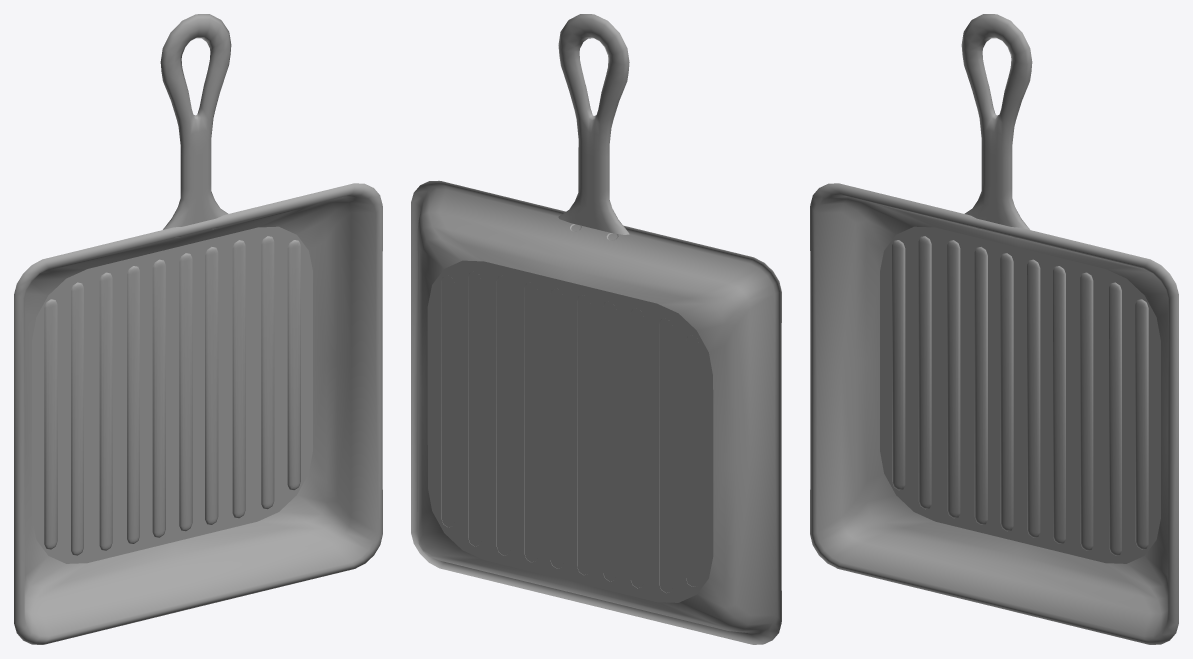
Rendered from MeshPan_27_0_GeomSubset_0.obj.
3 views of the same model, side by side, from view 1: azimuth 30°, elevation 25°; view 2: azimuth 150°, elevation 25°; view 3: azimuth 330°, elevation 25° (orthographic).
Visible parts, largest first — view 1: MeshPan_27_0_GeomSubset_0; view 2: MeshPan_27_0_GeomSubset_0; view 3: MeshPan_27_0_GeomSubset_0.
Boxes of the visible parts, left/top/right/bottom form: MeshPan_27_0_GeomSubset_0: left=14, top=14, right=382, bottom=644; MeshPan_27_0_GeomSubset_0: left=411, top=14, right=781, bottom=644; MeshPan_27_0_GeomSubset_0: left=810, top=14, right=1178, bottom=644.
Size of the model in its own units: 0.2839 by 0.4352 by 0.0468.
